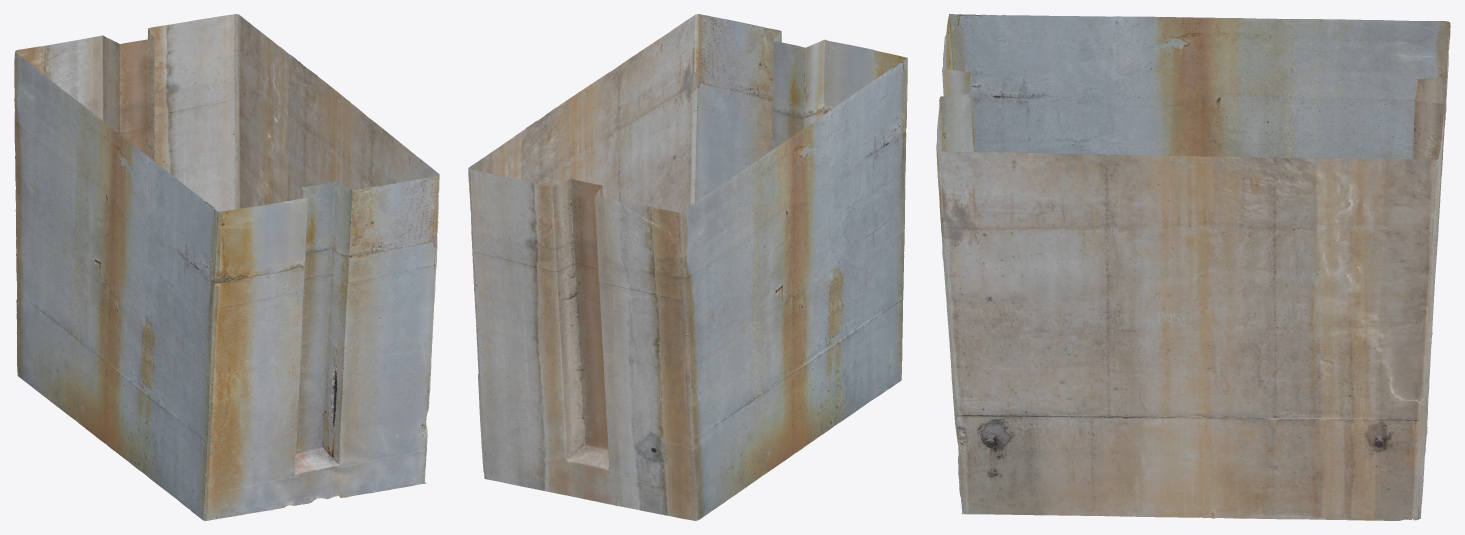
File: sf-concrete-column-1146f7.glb
3 renders of one model, left to right at view 1: azimuth 30°, elevation 25°; view 2: azimuth 150°, elevation 25°; view 3: azimuth 270°, elevation 25°, orthographic. The views are drawn at different scales.
Visible parts, largest first — view 1: Model_material0_0, Model_material1_0, Model_material2_0; view 2: Model_material1_0, Model_material0_0, Model_material2_0; view 3: Model_material2_0, Model_material1_0, Model_material0_0.
Boxes of the visible parts, x1,y1,x2,y2 form: Model_material0_0: [14, 34, 439, 520]; Model_material1_0: [15, 14, 430, 465]; Model_material2_0: [14, 35, 436, 496]; Model_material1_0: [468, 111, 904, 520]; Model_material0_0: [496, 14, 907, 414]; Model_material2_0: [478, 17, 905, 485]; Model_material2_0: [947, 15, 1450, 520]; Model_material1_0: [951, 79, 1444, 520]; Model_material0_0: [936, 14, 1445, 514].
Size of the model in its own units: 2.59 by 3.38 by 4.15.
Materials: 3 (3 with a texture image).
